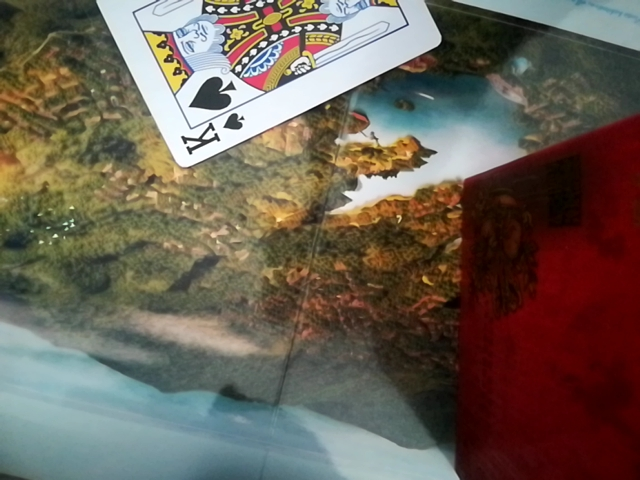ht k: (75, 1, 447, 169)
